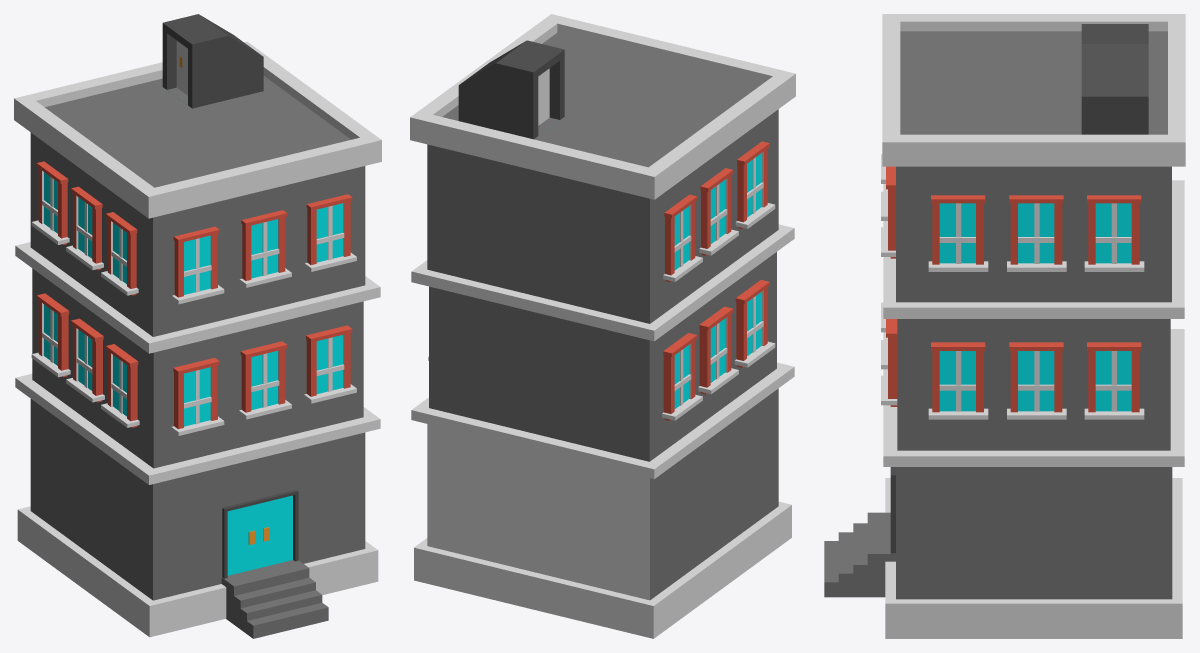
The model's file is Apartment.fbx.
3 renders of one model, left to right at view 1: azimuth 30°, elevation 25°; view 2: azimuth 150°, elevation 25°; view 3: azimuth 270°, elevation 25°, orthographic. The views are drawn at different scales.
Visible parts, largest first — view 1: Cube, Cube.019, Cube.003, Cube.001, Cube.002, Cube.005, Cube.004, Cube.006, Cube.014, Cube.015, Cube.013, Cube.017 (+2 smaller); view 2: Cube, Cube.013, Cube.014, Cube.015, Cube.018, Cube.016, Cube.017; view 3: Cube, Cube.019, Cube.009, Cube.007, Cube.008, Cube.010, Cube.011, Cube.012, Cube.001, Cube.006.
Boxes of the visible parts, x1,y1,x2,y2 form: Cube: (14, 14, 381, 637); Cube.019: (221, 560, 328, 638); Cube.003: (239, 341, 291, 419); Cube.001: (304, 325, 356, 403); Cube.002: (171, 357, 224, 435); Cube.005: (172, 226, 224, 304); Cube.004: (239, 210, 291, 287); Cube.006: (304, 194, 356, 271); Cube.014: (31, 293, 70, 377); Cube.015: (101, 344, 139, 427); Cube.013: (66, 318, 104, 402); Cube.017: (31, 161, 69, 244); Cube: (410, 14, 795, 638); Cube.013: (698, 306, 738, 394); Cube.014: (662, 333, 702, 420); Cube.015: (734, 280, 775, 367); Cube.018: (699, 168, 738, 255); Cube.016: (735, 141, 775, 228); Cube.017: (663, 194, 702, 282); Cube: (882, 14, 1185, 638); Cube.019: (824, 512, 895, 597); Cube.009: (1007, 342, 1066, 419); Cube.007: (928, 342, 988, 419); Cube.008: (1084, 342, 1144, 419); Cube.010: (1007, 195, 1066, 271); Cube.011: (1084, 195, 1144, 271); Cube.012: (928, 195, 988, 271); Cube.001: (881, 319, 897, 406); Cube.006: (881, 166, 895, 258).
Bounding box in the file's own units: 2568 × 5197 × 3035.
